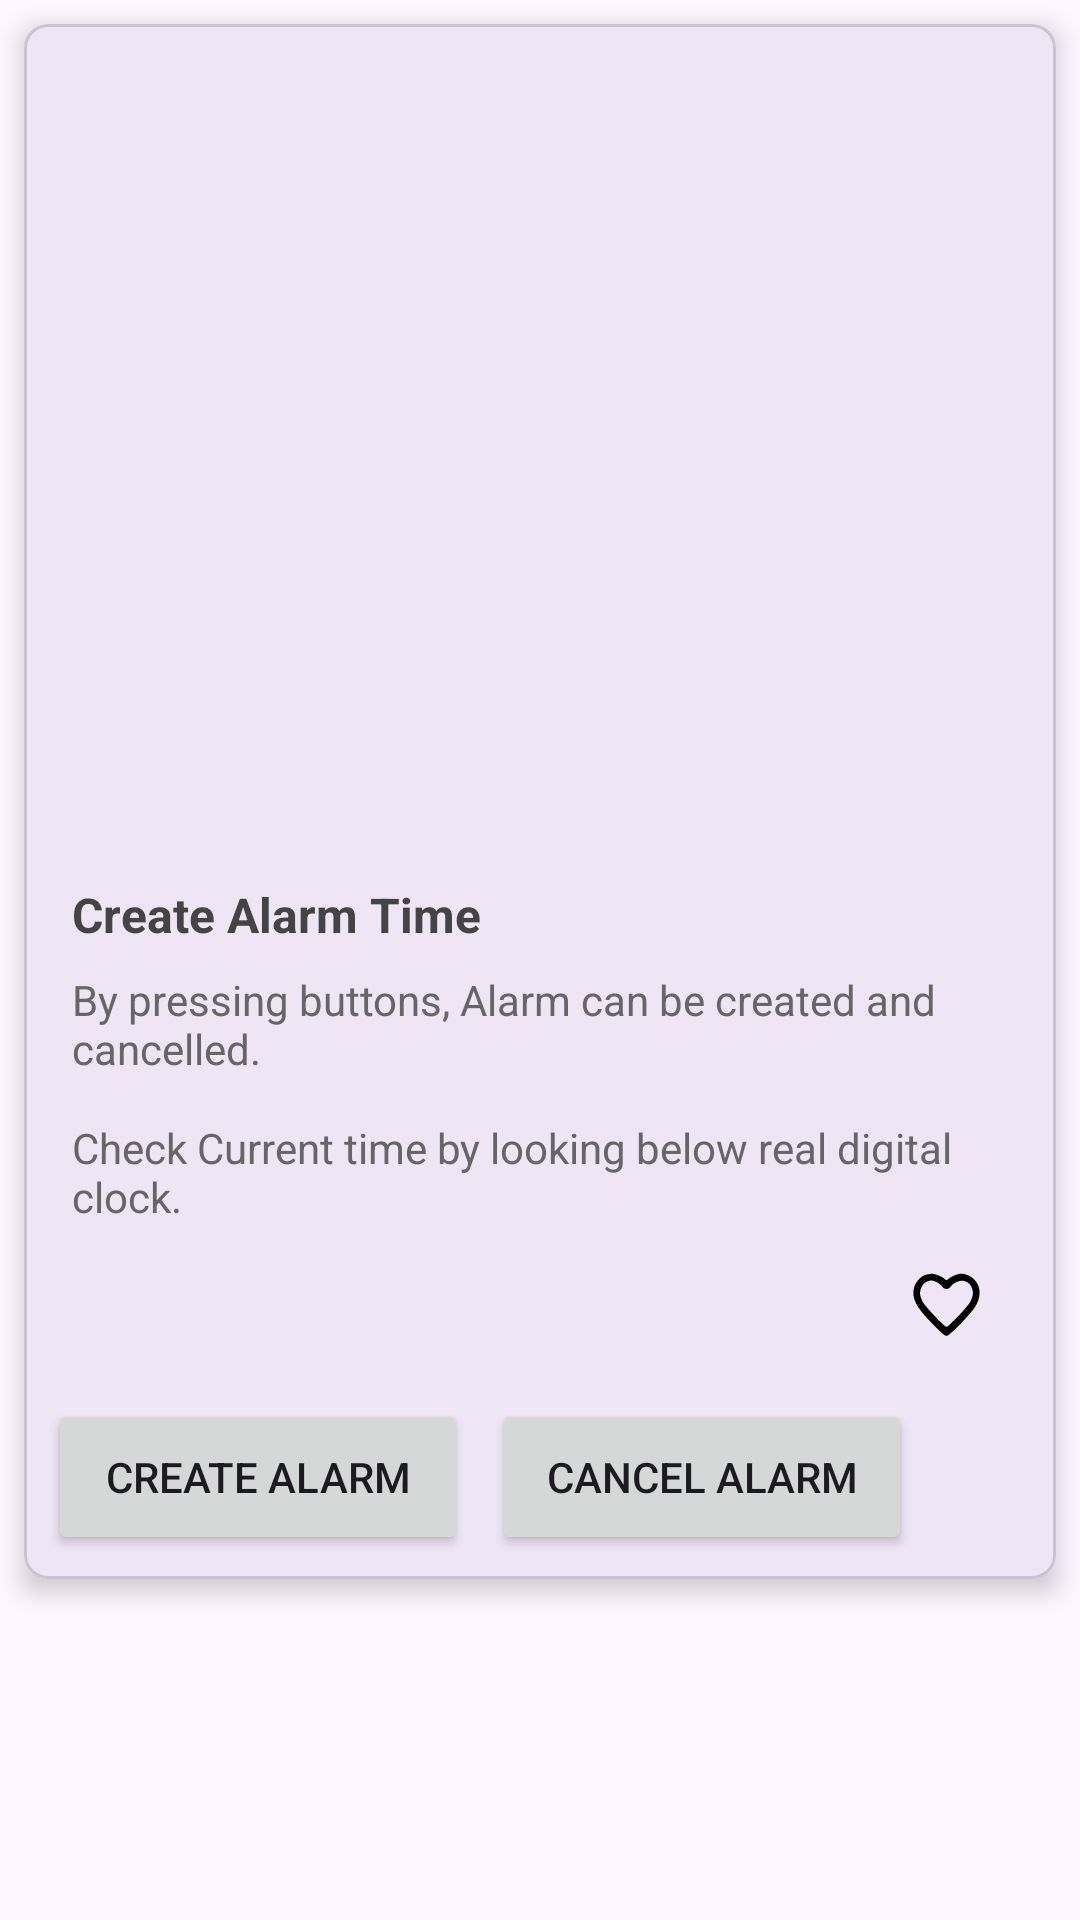

Screen size 1080×1920. Icon name, then its box in pixels as bbox=(x1, y1, x2, y2):
heart animation list: bbox=(913, 1273, 980, 1336)
